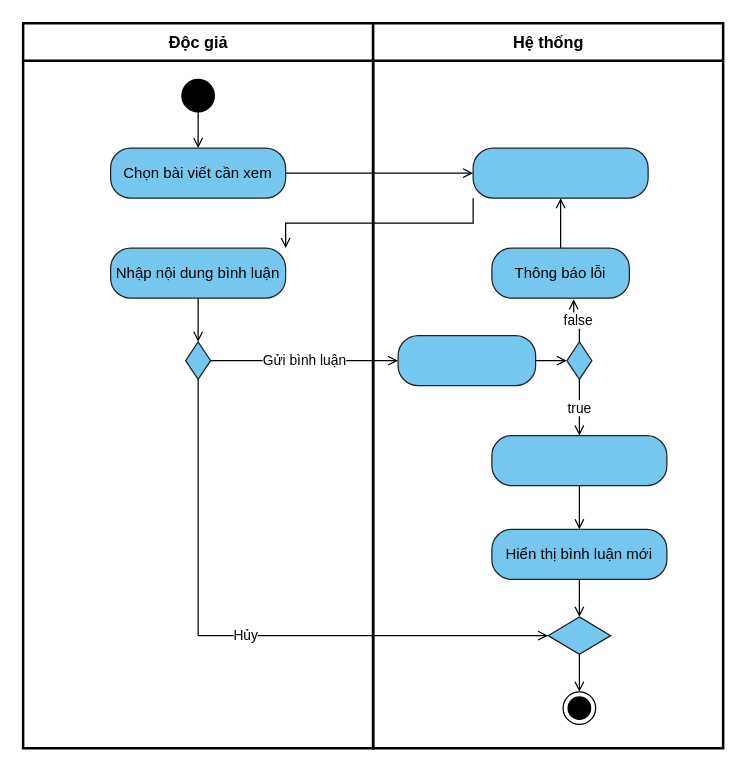
Image size: 745x770. Some labels were removed from this diagram. Each missing label, with the centre of its shape:
"Hiển thị bài viết & Khung bình luận" belongs at pixel 560 172.
"Kiểm tra nội dung" belongs at pixel 466 360.
"Lưu bảng BinhLuan (TrangThai = 'Hiển thị')" belongs at pixel 579 460.
